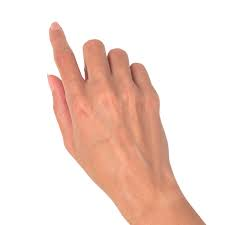hand: (32, 11, 191, 221)
